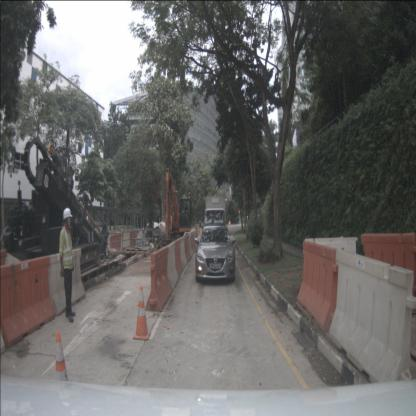movable_object-barrier: (328, 244, 416, 382), (0, 256, 55, 348), (358, 229, 416, 299), (295, 241, 338, 333), (302, 236, 358, 285), (47, 248, 86, 317), (145, 248, 173, 312), (165, 242, 179, 289), (171, 238, 184, 278), (178, 236, 188, 269), (182, 234, 192, 263), (110, 233, 122, 253), (121, 232, 131, 250), (187, 232, 194, 257), (190, 231, 197, 253), (130, 230, 138, 247), (192, 230, 198, 250), (194, 229, 198, 249)
movable_object-trafficcone: (48, 331, 73, 415), (133, 285, 150, 341)
vehicle-car: (196, 225, 236, 283)
vehicle-truck: (204, 195, 227, 245)
